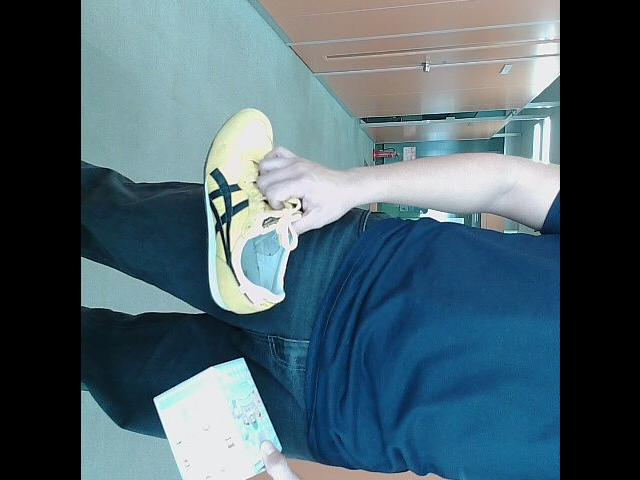Blind_box: (153, 362, 280, 480)
Shoes: (200, 109, 298, 317)
